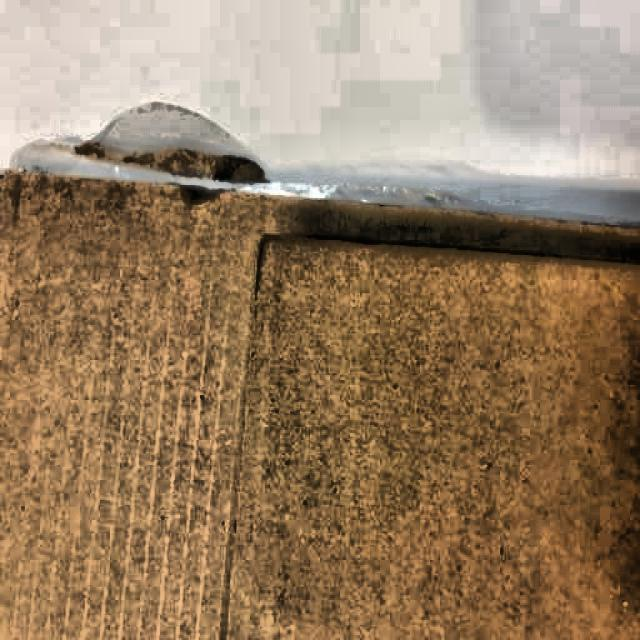cardboard: (0, 164, 639, 638)
